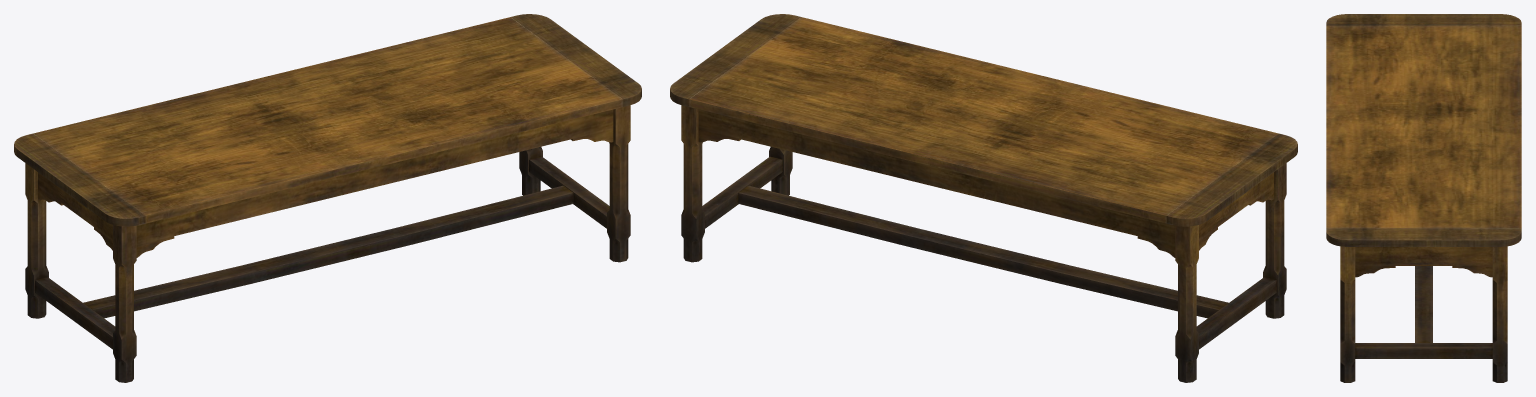
File: table.glb
The picture shows the model from 3 angles, left to right: view 1: azimuth 30°, elevation 25°; view 2: azimuth 150°, elevation 25°; view 3: azimuth 270°, elevation 25°; orthographic projection. The views are drawn at different scales.
Visible parts, largest first — view 1: WoodenTable_01; view 2: WoodenTable_01; view 3: WoodenTable_01.
Part boxes in pixels (x1=…): WoodenTable_01: x1=14, y1=14, x2=641, y2=382; WoodenTable_01: x1=670, y1=14, x2=1297, y2=382; WoodenTable_01: x1=1326, y1=14, x2=1521, y2=382.
Bounding box in the file's own units: 1.8 × 0.5488 × 0.6572.
Materials: 1 (1 with a texture image).
